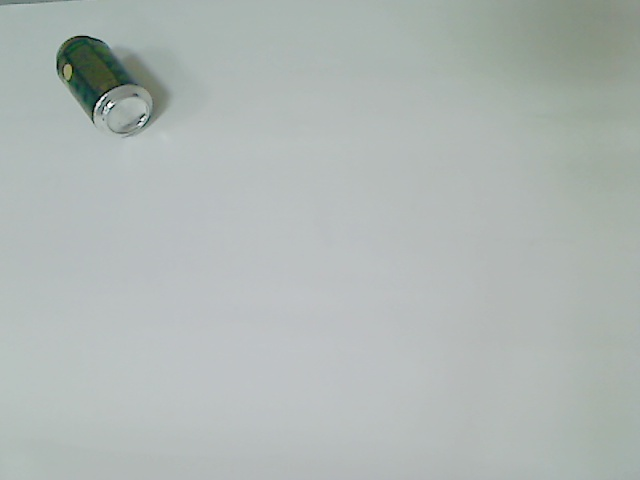can: (52, 34, 155, 138)
